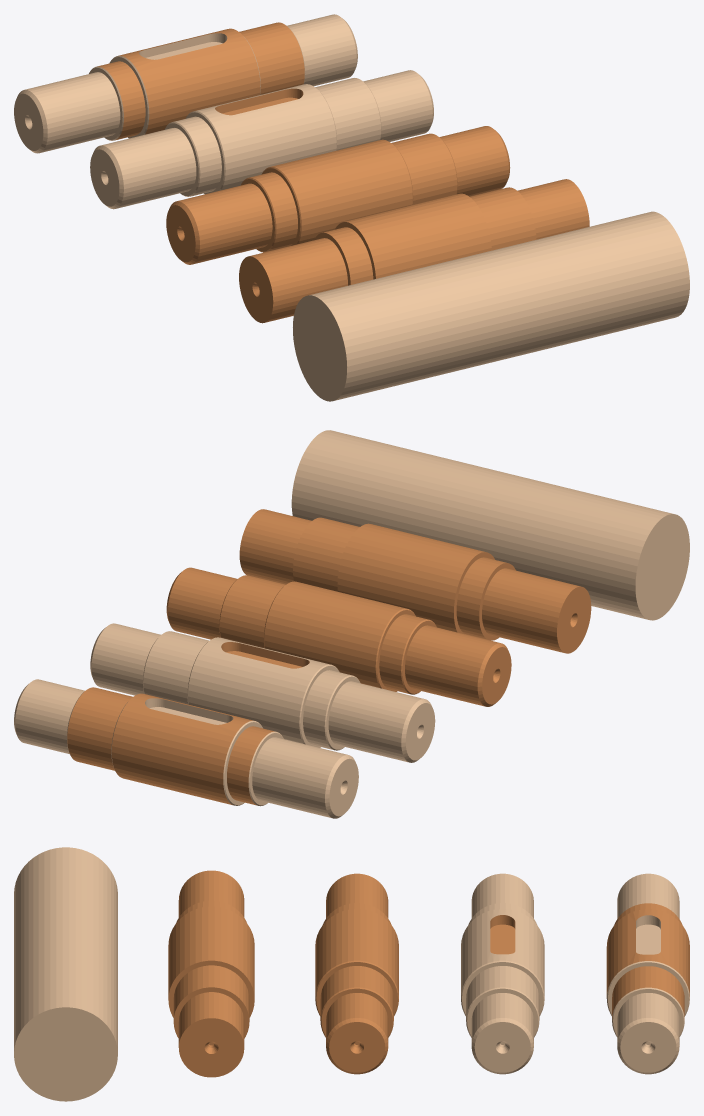
The picture shows the model from 3 angles, top to bottom: view 1: azimuth 30°, elevation 25°; view 2: azimuth 150°, elevation 25°; view 3: azimuth 270°, elevation 25°; orthographic projection. The views are drawn at different scales.
Visible parts, largest first — view 1: p01, p04, p05, p03, p02; view 2: p01, p05, p02, p04, p03; view 3: p01, p02, p03, p04, p05.
Part boxes in pixels (x1,y1,x2,y2): p01: (293,211,689,401); p04: (90,70,433,209); p05: (14,14,357,153); p03: (166,126,510,264); p02: (239,179,589,323); p01: (291,430,689,620); p05: (14,679,358,818); p02: (239,509,591,653); p04: (90,623,435,762); p03: (166,567,511,706); p01: (14,847,117,1101); p02: (168,870,254,1077); p03: (315,873,398,1074); p04: (461,873,544,1074); p05: (606,873,689,1074).
Size of the model in its own units: 0.182 by 0.05 by 0.325.
